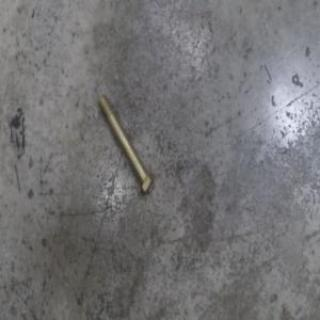Bolttrack_idkeyframe: (96, 92, 154, 198)
